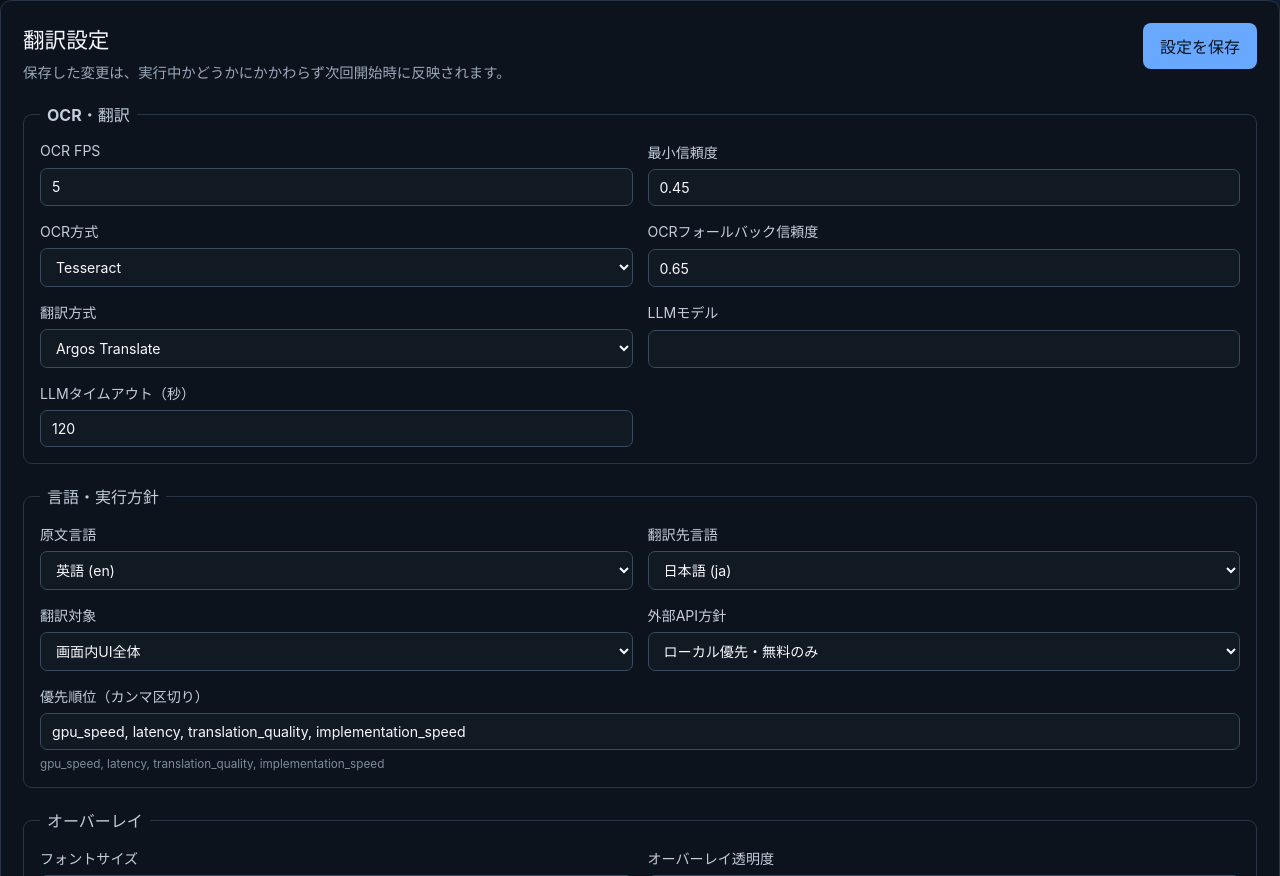
SettingsPanel › 数値範囲をクライアントで検証し、入力値を保持する
The width and height of the screenshot is (1280, 876).
Replace the text in the number field labelled "OCR FPS" with "0": (336, 187) x1=40 y1=168 x2=632 y2=206
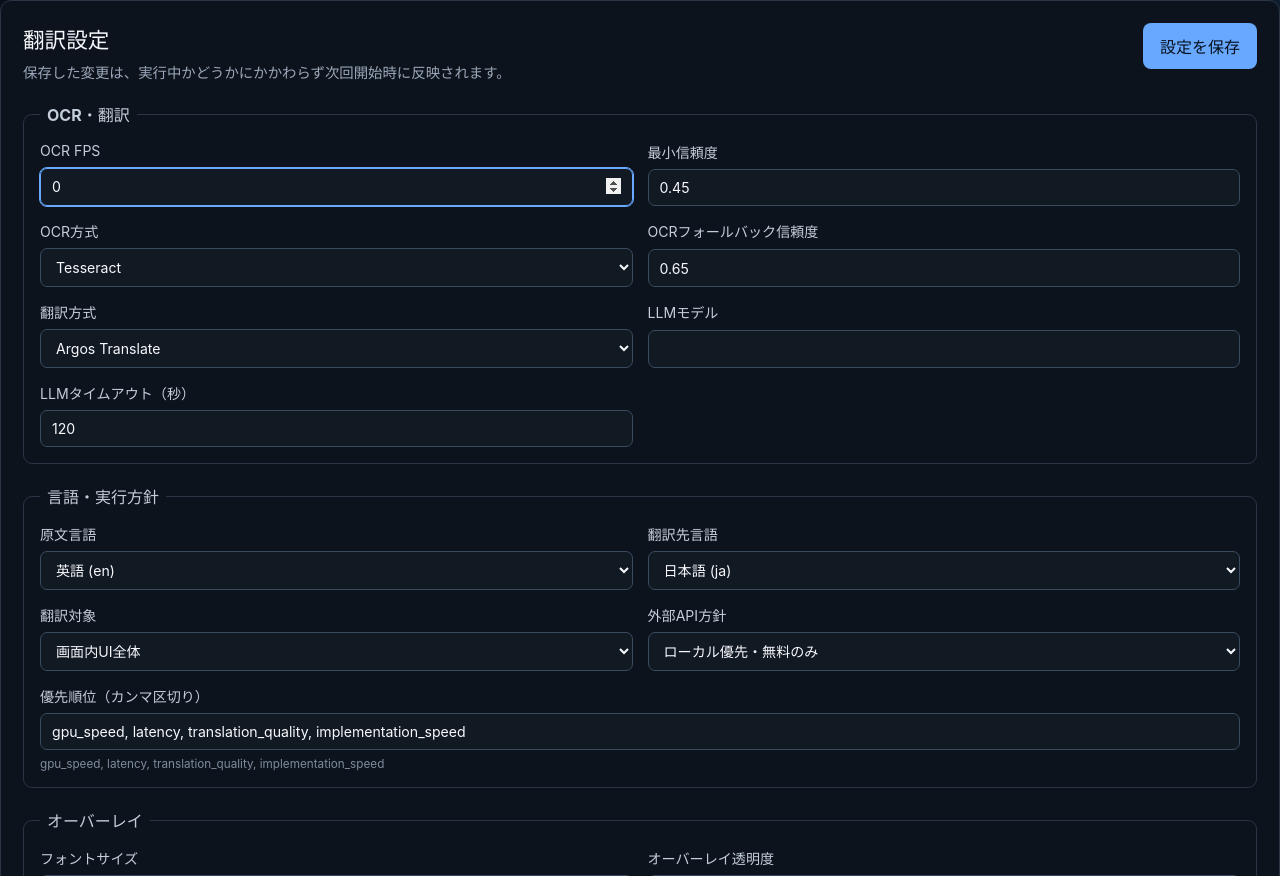
Click the button "設定を保存": (1200, 46) x1=1143 y1=23 x2=1257 y2=69
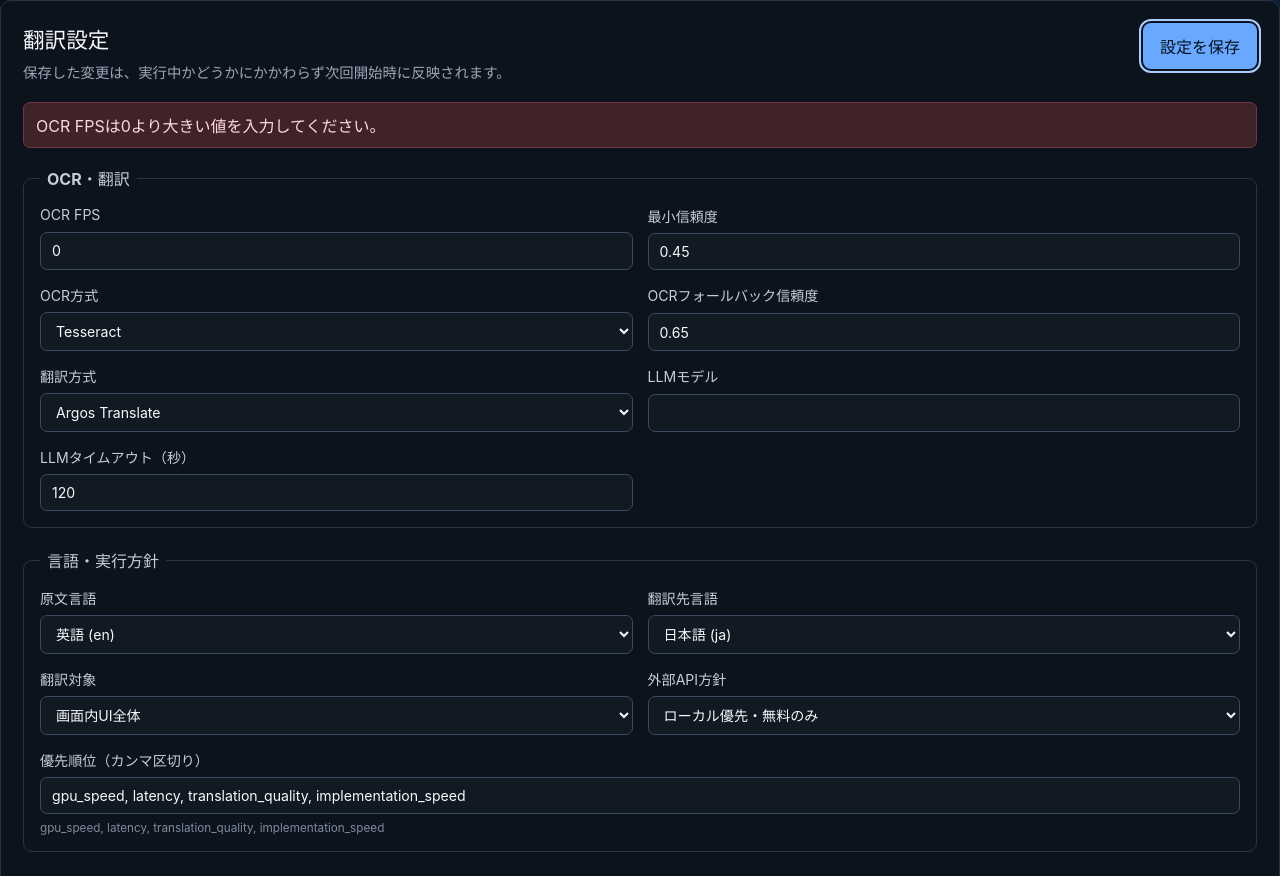
Result: the message reads "OCR FPSは0より大きい値を入力してください。" at x1=36 y1=116 x2=386 y2=136
